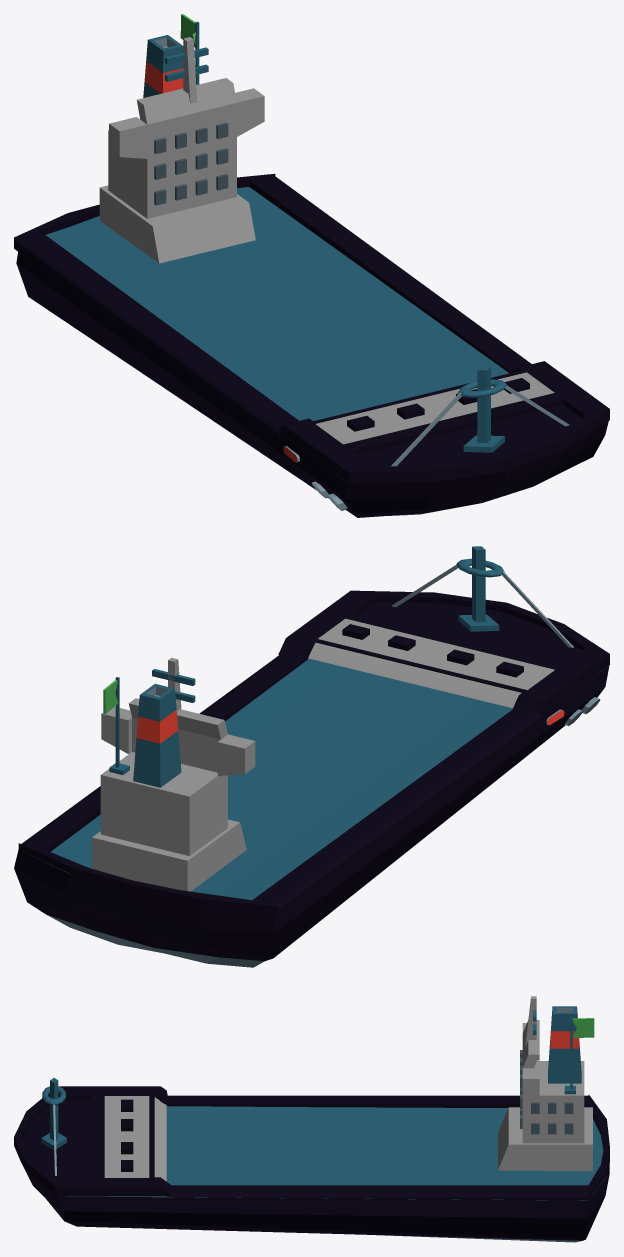
File: Boat3.2.fbx
3 views of the same model, one above another, from view 1: azimuth 30°, elevation 25°; view 2: azimuth 150°, elevation 25°; view 3: azimuth 270°, elevation 25° (orthographic). The views are drawn at different scales.
Visible parts, largest first — view 1: group2024440113.001, group582159379, group2024440113, group425647546, group1340366337, group708609790, group1490881220, group620926883, group1429872227, group1639735897, group402951083, group743730337 (+3 smaller); view 2: group2024440113.001, group2024440113, group582159379, group425647546, group1490881220, group708609790, group1340366337, group1639735897, group682183177, group1224037610, group410031999, group620926883 (+6 smaller); view 3: group2024440113.001, group2024440113, group582159379, group1340366337, group425647546, group708609790, group1490881220, group1639735897, group682183177, group1429872227, group743730337, group1224037610 (+3 smaller).
Part boxes in pixels (x1=…): group2024440113.001: x1=46, y1=187, x2=508, y2=481; group582159379: x1=287, y1=364, x2=609, y2=483; group2024440113: x1=16, y1=252, x2=608, y2=517; group425647546: x1=14, y1=231, x2=298, y2=442; group1340366337: x1=249, y1=175, x2=531, y2=373; group708609790: x1=99, y1=185, x2=255, y2=263; group1490881220: x1=108, y1=130, x2=236, y2=218; group620926883: x1=147, y1=103, x2=236, y2=158; group1429872227: x1=136, y1=78, x2=236, y2=124; group1639735897: x1=143, y1=35, x2=183, y2=97; group402951083: x1=109, y1=117, x2=147, y2=158; group743730337: x1=235, y1=88, x2=264, y2=136; group2024440113.001: x1=28, y1=658, x2=608, y2=900; group2024440113: x1=14, y1=666, x2=609, y2=967; group582159379: x1=290, y1=590, x2=609, y2=709; group425647546: x1=252, y1=709, x2=541, y2=917; group1490881220: x1=100, y1=752, x2=227, y2=855; group708609790: x1=92, y1=819, x2=246, y2=891; group1340366337: x1=22, y1=654, x2=307, y2=851; group1639735897: x1=133, y1=683, x2=181, y2=787; group682183177: x1=308, y1=642, x2=521, y2=708; group1224037610: x1=128, y1=880, x2=277, y2=917; group410031999: x1=18, y1=843, x2=131, y2=893; group620926883: x1=132, y1=718, x2=220, y2=772; group2024440113.001: x1=66, y1=1106, x2=606, y2=1200; group2024440113: x1=15, y1=1149, x2=609, y2=1242; group582159379: x1=14, y1=1086, x2=154, y2=1196; group1340366337: x1=166, y1=1185, x2=588, y2=1200; group425647546: x1=166, y1=1095, x2=588, y2=1107; group708609790: x1=498, y1=1107, x2=592, y2=1171; group1490881220: x1=522, y1=1061, x2=584, y2=1143; group1639735897: x1=548, y1=1006, x2=581, y2=1083; group682183177: x1=154, y1=1097, x2=166, y2=1181; group1429872227: x1=522, y1=1020, x2=539, y2=1068; group743730337: x1=522, y1=1068, x2=539, y2=1099; group1224037610: x1=588, y1=1094, x2=609, y2=1148.
Bounding box in the file's own units: 506 × 493 × 1217.
